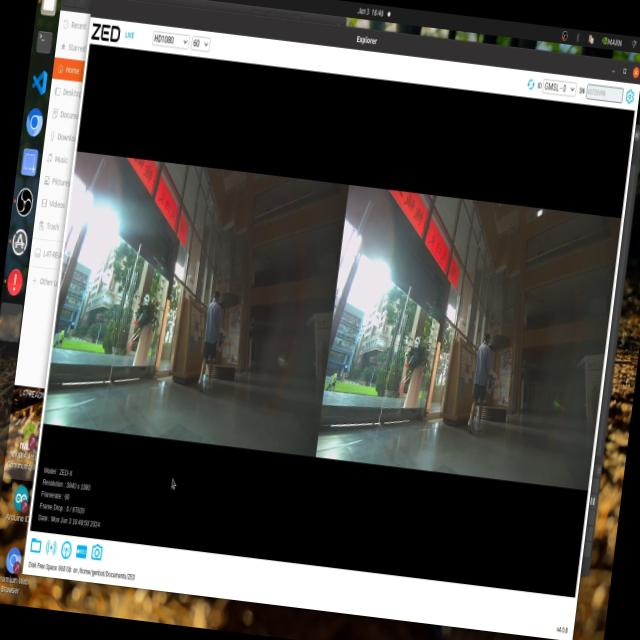blue: (482, 366, 499, 400), (213, 327, 224, 348)
